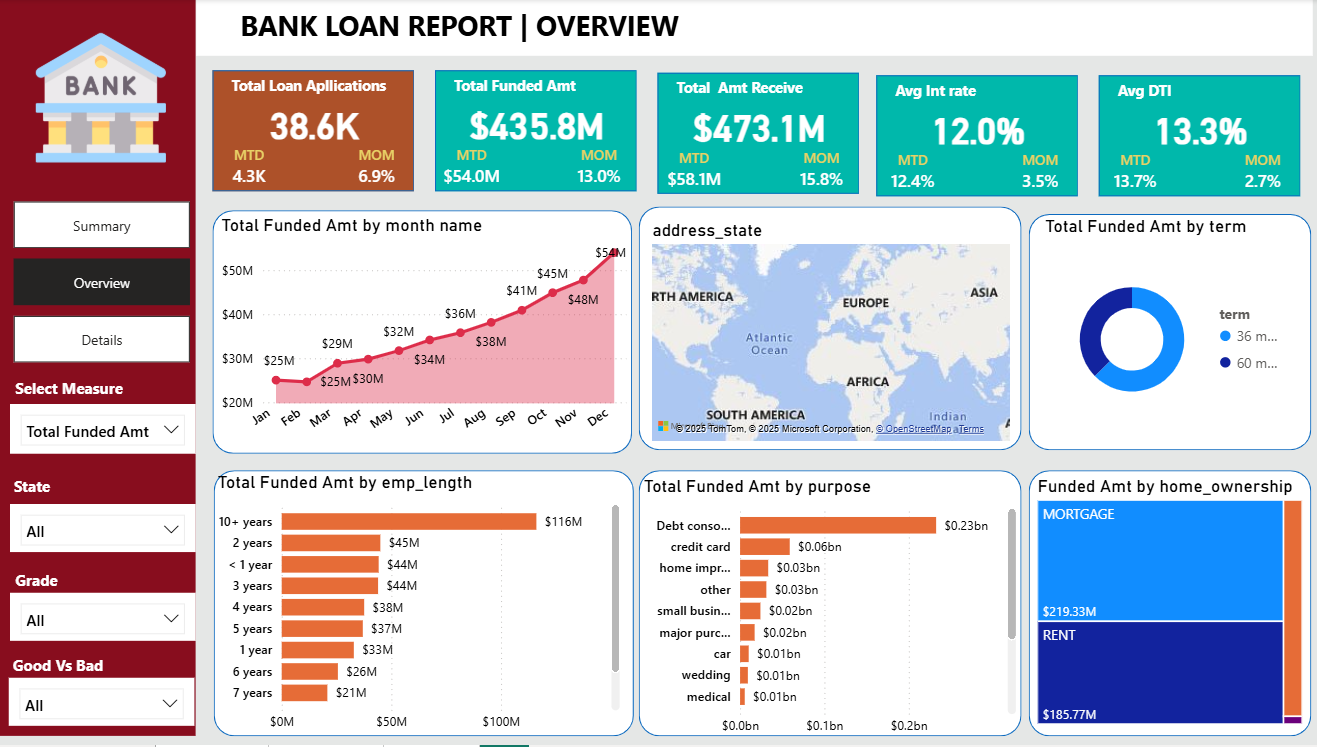

What the dashboard file says about the page in this screenshot:
{"tool":"powerbi","page":{"name":"Overview","canvas":[1280,720],"ordinal":1},"visuals":[{"type":"image","box":[26,27.4,141.4,135.6],"z":0,"group":"g10"},{"type":"shape","box":[205.1,68.8,194.8,116.9],"z":0,"group":"g2"},{"type":"shape","box":[420.1,68.8,194.8,116.9],"z":0,"group":"g3"},{"type":"shape","box":[635,71.7,194.8,116.9],"z":0,"group":"g4"},{"type":"shape","box":[845.7,73.1,194.8,116.9],"z":0,"group":"g5"},{"type":"shape","box":[1060.7,73.1,194.8,116.9],"z":0,"group":"g6"},{"type":"shape","box":[205.1,203.9,405,235],"z":0},{"type":"slicer","title":"State","fields":{"Values":["public loan_data.address_state"]},"box":[9.6,486.5,178.9,46.2],"z":0,"group":"g7"},{"type":"slicer","title":"State","fields":{"Values":["public loan_data.grade"]},"box":[10.1,572.8,178.9,46.2],"z":0,"group":"g12"},{"type":"slicer","title":"State","fields":{"Values":["public loan_data.Good Vs Bad Loan"]},"box":[8.4,655.1,178.9,46.2],"z":0,"group":"g13"},{"type":"shape","box":[189,0,1077.7,54.8],"z":1000},{"type":"card","fields":{"Values":["meassures.total loan application"]},"box":[218.1,99.1,170.2,41.8],"z":1000,"group":"g2"},{"type":"card","fields":{"Values":["meassures.Total Funded Amt"]},"box":[433.1,99.1,170.2,41.8],"z":1000,"group":"g3"},{"type":"card","fields":{"Values":["meassures.Total Amt receive"]},"box":[648,102,170.2,41.8],"z":1000,"group":"g4"},{"type":"card","fields":{"Values":["meassures.Avg Int rate"]},"box":[858.7,103.4,170.2,41.8],"z":1000,"group":"g5"},{"type":"card","fields":{"Values":["meassures.Avg DTI"]},"box":[1073.7,103.4,170.2,41.8],"z":1000,"group":"g6"},{"type":"pageNavigator","box":[12.8,195.6,170.2,157.3],"z":1000,"group":"g10"},{"type":"textbox","box":[8.7,454.5,77.9,50.5],"z":1000,"group":"g7"},{"type":"textbox","box":[10.1,545.4,57.7,50.5],"z":1000,"group":"g12"},{"type":"textbox","box":[7.5,627.8,109.6,30.3],"z":1000,"group":"g13"},{"type":"textbox","box":[226.5,2.9,453,51.9],"z":2000},{"type":"textbox","box":[218.1,68.8,170.2,36.1],"z":2000,"group":"g2"},{"type":"textbox","box":[433.1,68.8,170.2,36.1],"z":2000,"group":"g3"},{"type":"textbox","box":[648,71.7,170.2,36.1],"z":2000,"group":"g4"},{"type":"textbox","box":[858.7,73.1,170.2,36.1],"z":2000,"group":"g5"},{"type":"textbox","box":[1073.7,73.1,170.2,36.1],"z":2000,"group":"g6"},{"type":"textbox","box":[10.1,360.7,151.5,31.7],"z":2000,"group":"g11"},{"type":"group","id":"g1","title":"Group 2","box":[205.1,68.8,1060.5,121.9],"z":3000},{"type":"group","id":"g2","title":"Group 1","box":[205.1,68.8,204.9,116.9],"z":3000,"group":"g1"},{"type":"card","title":"MTD","fields":{"Values":["meassures.MTD Loan Application"]},"box":[205.1,140.9,70.7,44.7],"z":3000,"group":"g2"},{"type":"card","title":"MTD","fields":{"Values":["meassures.MTD Funded Amt"]},"box":[420.1,140.9,70.7,44.7],"z":3000,"group":"g3"},{"type":"card","title":"MTD","fields":{"Values":["meassures.MTD Receive Amt"]},"box":[635,143.8,70.7,44.7],"z":3000,"group":"g4"},{"type":"card","title":"MTD","fields":{"Values":["meassures.MTD Interest rate"]},"box":[845.7,145.2,70.7,44.7],"z":3000,"group":"g5"},{"type":"card","title":"MTD","fields":{"Values":["meassures.MTD DTI"]},"box":[1060.7,145.2,70.7,44.7],"z":3000,"group":"g6"},{"type":"group","id":"g3","title":"Group 1","box":[420.1,68.8,204.9,116.9],"z":4000,"group":"g1"},{"type":"card","title":"MOM","fields":{"Values":["meassures.MOM Loan Applications"]},"box":[317.6,140.9,92.3,44.7],"z":4000,"group":"g2"},{"type":"card","title":"MOM","fields":{"Values":["meassures.MOM Funded Amt"]},"box":[532.6,140.9,92.3,44.7],"z":4000,"group":"g3"},{"type":"card","title":"MOM","fields":{"Values":["meassures.MOM"]},"box":[747.5,143.8,92.3,44.7],"z":4000,"group":"g4"},{"type":"card","title":"MOM","fields":{"Values":["meassures.MOM"]},"box":[958.2,145.2,92.3,44.7],"z":4000,"group":"g5"},{"type":"card","title":"MOM","fields":{"Values":["meassures.MOM DTI"]},"box":[1173.2,145.2,92.3,44.7],"z":4000,"group":"g6"},{"type":"group","id":"g4","title":"Group 1","box":[635,71.7,204.9,116.9],"z":5000,"group":"g1"},{"type":"group","id":"g5","title":"Group 1","box":[845.7,73.1,204.9,116.9],"z":6000,"group":"g1"},{"type":"group","id":"g6","title":"Group 1","box":[1060.7,73.1,204.9,116.9],"z":7000,"group":"g1"},{"type":"areaChart","fields":{"Y":["meassures.Total Funded Amt"],"Category":["calender.month name"]},"box":[209.2,207.8,401.1,228],"z":7000},{"type":"shape","box":[0,0,189,711.3],"z":7500},{"type":"group","id":"g7","title":"Group 5","box":[8.7,454.5,180.3,77.9],"z":7750},{"type":"group","id":"g8","title":"Group 5","box":[10.1,545.4,178.9,73.6],"z":7875},{"type":"group","id":"g9","title":"Group 5","box":[7.5,627.8,180.3,73.6],"z":7937},{"type":"shape","box":[616.1,200.5,369.3,235.2],"z":8000},{"type":"filledMap","fields":{"Category":["public loan_data.address_state"]},"box":[624.7,212.1,354.9,219.3],"z":9000},{"type":"shape","box":[992.6,207.8,272.7,228],"z":10000},{"type":"donutChart","fields":{"Y":["meassures.Total Funded Amt"],"Category":["public loan_data.term"]},"box":[1004.2,209.2,251,220.7],"z":11000},{"type":"slicer","fields":{"Values":["Select Measure.Select Measure"]},"box":[10.1,391,178.9,47.6],"z":11000,"group":"g11"},{"type":"shape","box":[206.3,454.5,405.4,256.8],"z":12000},{"type":"clusteredBarChart","fields":{"Y":["meassures.Total Funded Amt"],"Category":["public loan_data.emp_length"]},"box":[204.9,455.9,398.2,259.7],"z":13000},{"type":"shape","box":[616.1,454.5,369.3,256.8],"z":14000},{"type":"clusteredBarChart","fields":{"Y":["meassures.Total Funded Amt"],"Category":["public loan_data.purpose"]},"box":[616.1,460.2,369.3,259.7],"z":15000},{"type":"shape","box":[992.6,454.5,272.7,256.8],"z":16000},{"type":"treemap","title":" Funded Amt by home_ownership","fields":{"Values":["meassures.Total Funded Amt"],"Group":["public loan_data.home_ownership"]},"box":[996.9,460.2,265.5,245.3],"z":17000},{"type":"group","id":"g10","title":"Group 6","box":[12.8,27.4,170.2,325.5],"z":18000},{"type":"group","id":"g11","title":"Group 7","box":[10.1,360.7,178.9,77.9],"z":19000},{"type":"group","id":"g12","title":"Group 4","box":[10.1,545.4,178.9,73.6],"z":21002,"group":"g8"},{"type":"group","id":"g13","title":"Group 3","box":[7.5,627.8,180.3,73.6],"z":21002,"group":"g9"}]}

Visuals, with their boxes on the page's 1280x720 design canvas (x1, y1, x2, y2). These are canvas units, not pixel positions in the 1317x747 screenshot, which may show the page scaled, cropped or inside an application window:
image: [26, 27, 167, 163]
shape: [205, 69, 400, 186]
shape: [420, 69, 615, 186]
shape: [635, 72, 830, 189]
shape: [846, 73, 1040, 190]
shape: [1061, 73, 1256, 190]
shape: [205, 204, 610, 439]
"State" slicer: [10, 486, 188, 533]
"State" slicer: [10, 573, 189, 619]
"State" slicer: [8, 655, 187, 701]
shape: [189, 0, 1267, 55]
card - meassures.total loan application: [218, 99, 388, 141]
card - meassures.Total Funded Amt: [433, 99, 603, 141]
card - meassures.Total Amt receive: [648, 102, 818, 144]
card - meassures.Avg Int rate: [859, 103, 1029, 145]
card - meassures.Avg DTI: [1074, 103, 1244, 145]
pageNavigator: [13, 196, 183, 353]
textbox: [9, 454, 87, 505]
textbox: [10, 545, 68, 596]
textbox: [8, 628, 117, 658]
textbox: [226, 3, 680, 55]
textbox: [218, 69, 388, 105]
textbox: [433, 69, 603, 105]
textbox: [648, 72, 818, 108]
textbox: [859, 73, 1029, 109]
textbox: [1074, 73, 1244, 109]
textbox: [10, 361, 162, 392]
"Group 2" group: [205, 69, 1266, 191]
"Group 1" group: [205, 69, 410, 186]
"MTD" card: [205, 141, 276, 186]
"MTD" card: [420, 141, 491, 186]
"MTD" card: [635, 144, 706, 188]
"MTD" card: [846, 145, 916, 190]
"MTD" card: [1061, 145, 1131, 190]
"Group 1" group: [420, 69, 625, 186]
"MOM" card: [318, 141, 410, 186]
"MOM" card: [533, 141, 625, 186]
"MOM" card: [748, 144, 840, 188]
"MOM" card: [958, 145, 1050, 190]
"MOM" card: [1173, 145, 1266, 190]
"Group 1" group: [635, 72, 840, 189]
"Group 1" group: [846, 73, 1051, 190]
"Group 1" group: [1061, 73, 1266, 190]
areaChart - meassures.Total Funded Amt x calender.month name: [209, 208, 610, 436]
shape: [0, 0, 189, 711]
"Group 5" group: [9, 454, 189, 532]
"Group 5" group: [10, 545, 189, 619]
"Group 5" group: [8, 628, 188, 701]
shape: [616, 200, 985, 436]
filledMap - public loan_data.address_state: [625, 212, 980, 431]
shape: [993, 208, 1265, 436]
donutChart - meassures.Total Funded Amt x public loan_data.term: [1004, 209, 1255, 430]
slicer - Select Measure.Select Measure: [10, 391, 189, 439]
shape: [206, 454, 612, 711]
clusteredBarChart - meassures.Total Funded Amt x public loan_data.emp_length: [205, 456, 603, 716]
shape: [616, 454, 985, 711]
clusteredBarChart - meassures.Total Funded Amt x public loan_data.purpose: [616, 460, 985, 720]
shape: [993, 454, 1265, 711]
" Funded Amt by home_ownership" treemap: [997, 460, 1262, 706]
"Group 6" group: [13, 27, 183, 353]
"Group 7" group: [10, 361, 189, 439]
"Group 4" group: [10, 545, 189, 619]
"Group 3" group: [8, 628, 188, 701]
